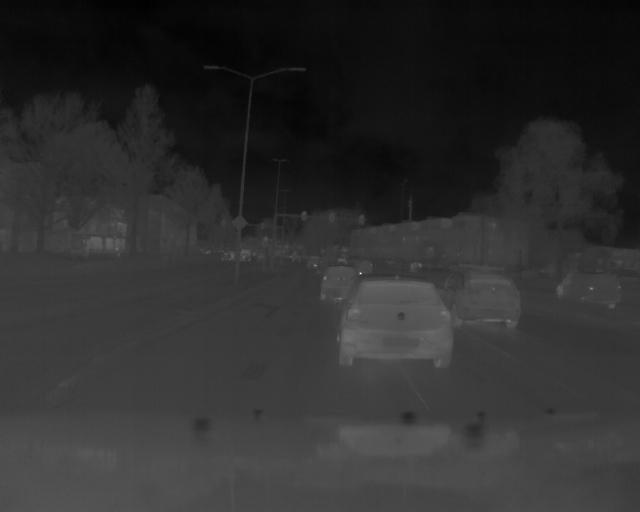car: (338, 275, 456, 370), (438, 270, 524, 332), (554, 271, 629, 315), (316, 265, 365, 304)
